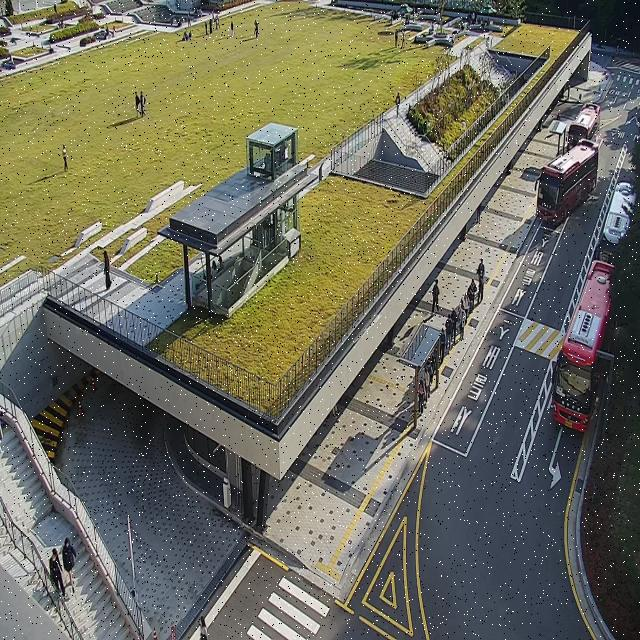queue: (414, 257, 484, 433)
